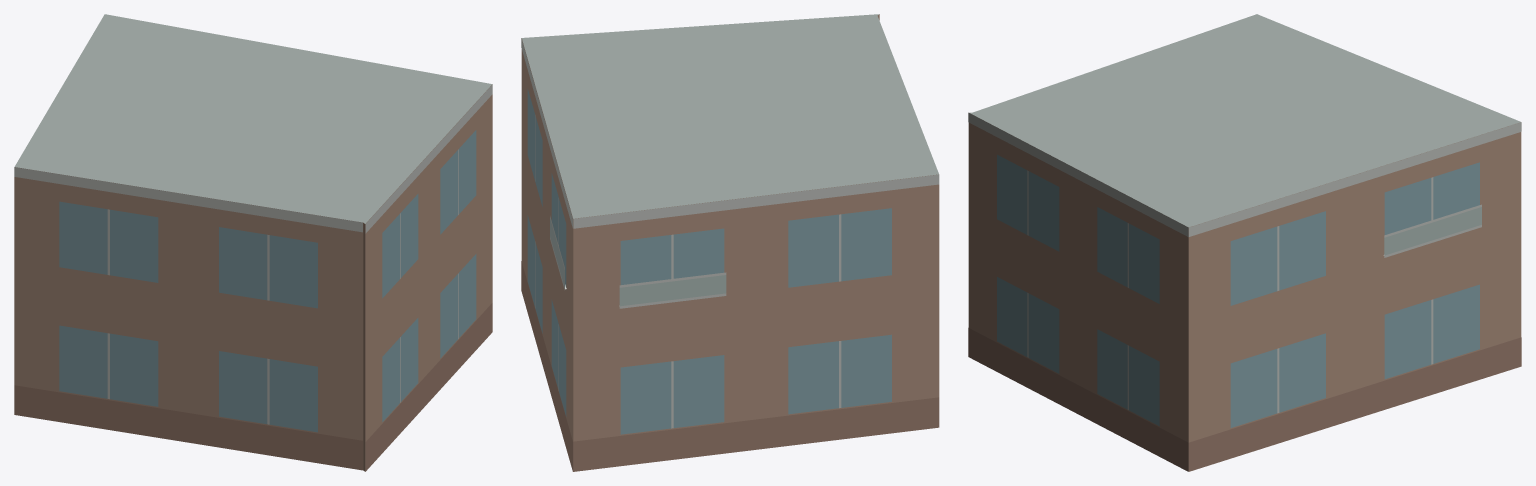
File: survey-upis-32640286.glb
The picture shows the model from 3 angles, left to right: view 1: azimuth 30°, elevation 25°; view 2: azimuth 150°, elevation 25°; view 3: azimuth 270°, elevation 25°; orthographic projection. The views are drawn at different scales.
Visible parts, largest first — view 1: survey-upis-32640286.tmp; view 2: survey-upis-32640286.tmp; view 3: survey-upis-32640286.tmp.
Boxes of the visible parts, x1=… form: survey-upis-32640286.tmp: x1=14, y1=14, x2=492, y2=471; survey-upis-32640286.tmp: x1=521, y1=14, x2=939, y2=471; survey-upis-32640286.tmp: x1=968, y1=14, x2=1521, y2=471.
Size of the model in its own units: 11.43 by 6.1 by 12.51.
